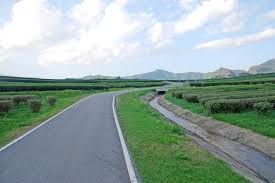strada: (1, 93, 123, 183)
